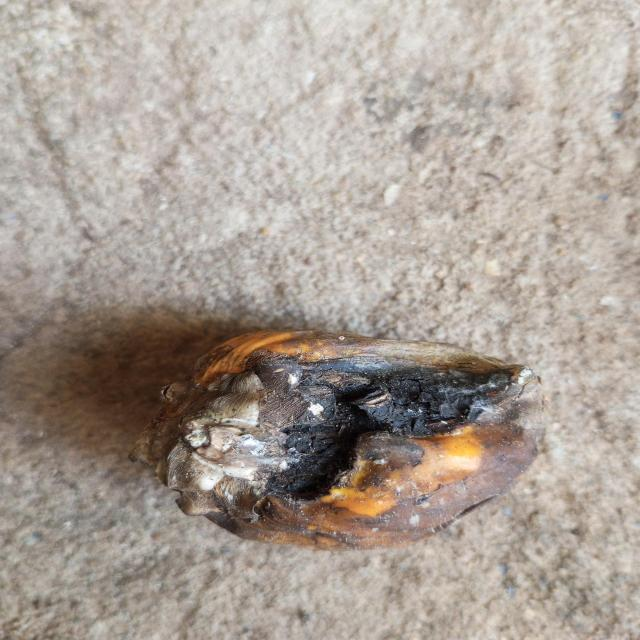damaged: (147, 332, 538, 553)
